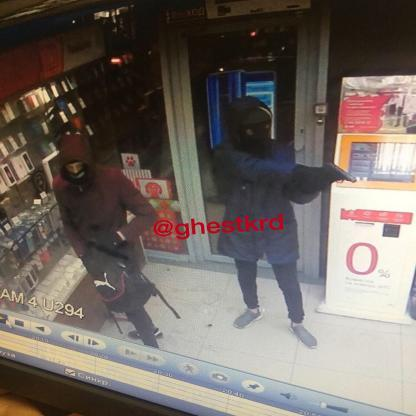pistols: (317, 160, 363, 188)
